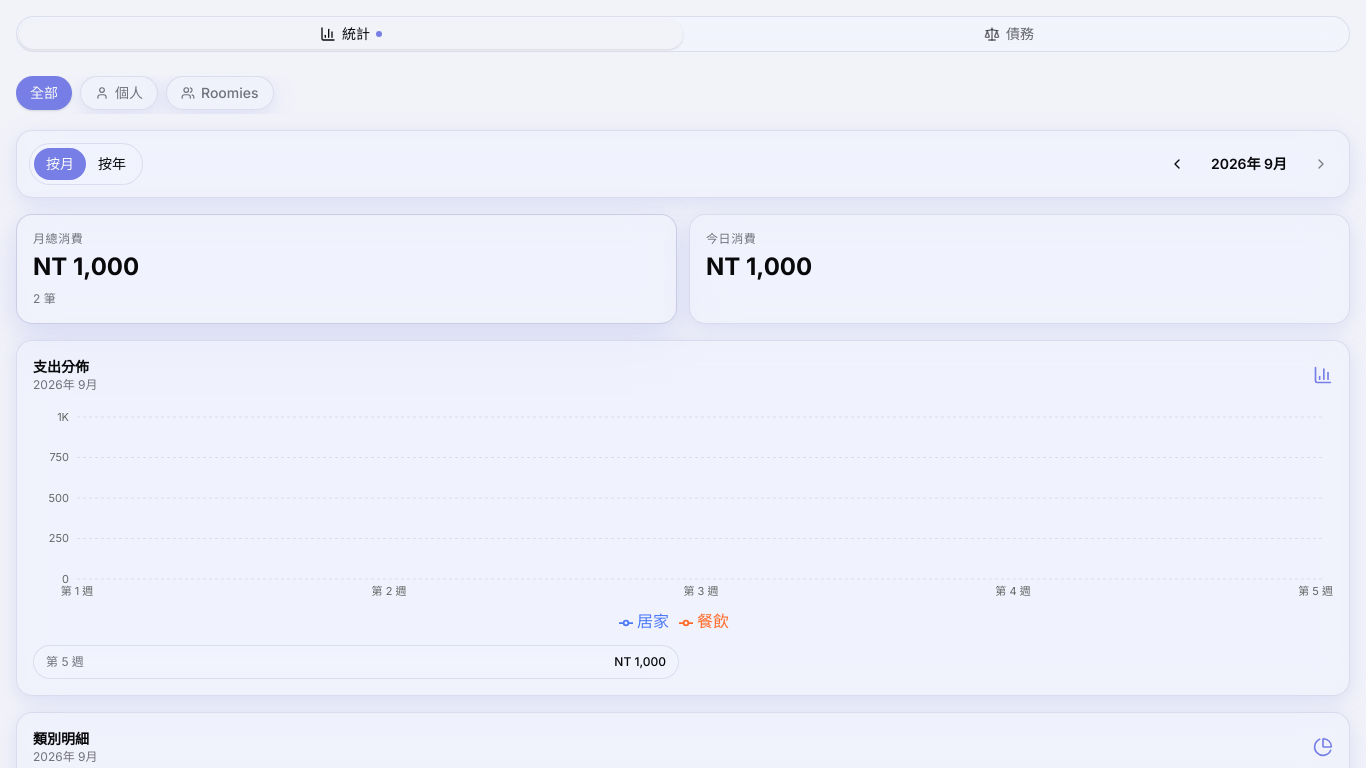
Test: OverviewPage › empty debt year hides the hero and current-month label, showing the no-data state
Press the mouse on the tab "債務" at (1015, 34), box x1=683 y1=20 x2=1347 y2=48
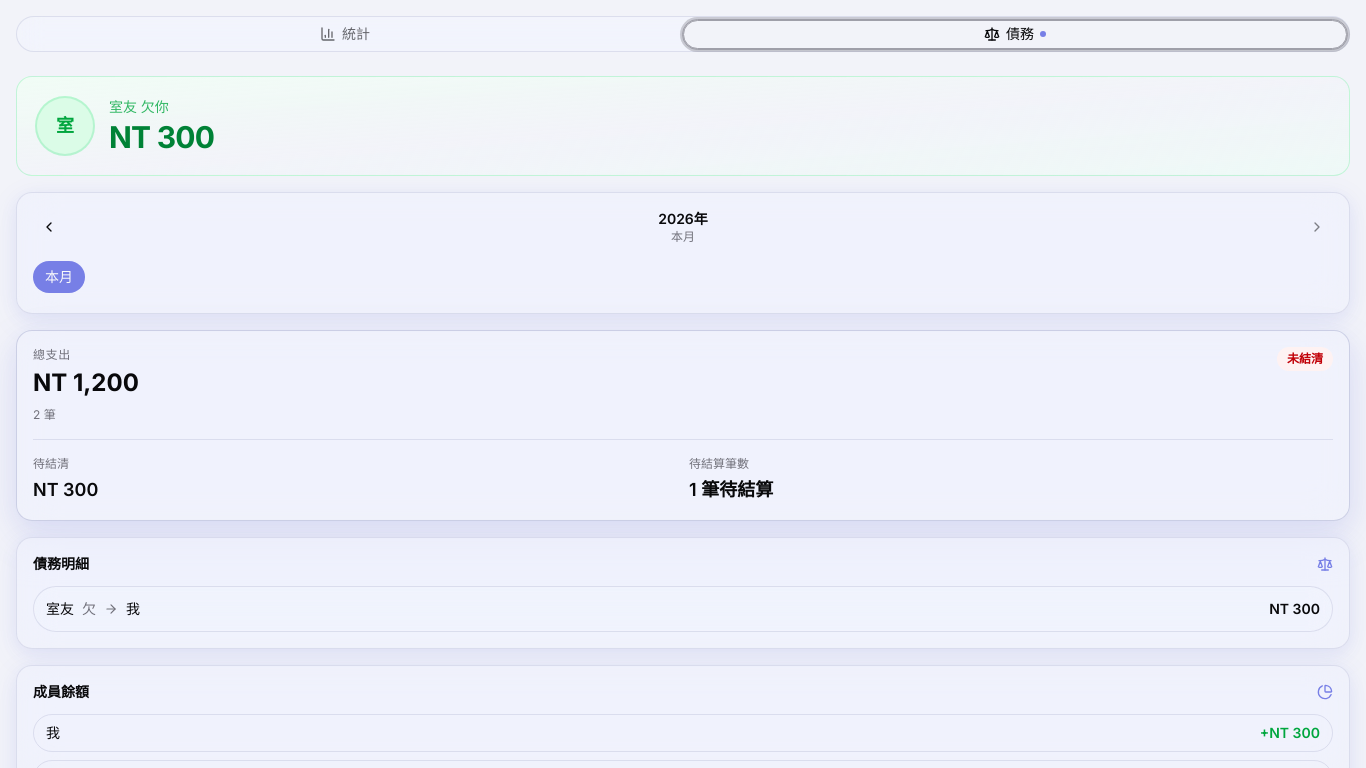
Expected: the element with test id "overview-debt-hero" is shown, x1=16 y1=76 x2=1350 y2=176
Expected: the text "本月" is shown, x1=671 y1=229 x2=695 y2=244
// 切到沒有月份的上一年：hero 不渲染、不顯示 current-month label、顯示無資料空狀態。
Click the button named "previous debt year" at (49, 227), box x1=33 y1=211 x2=65 y2=243
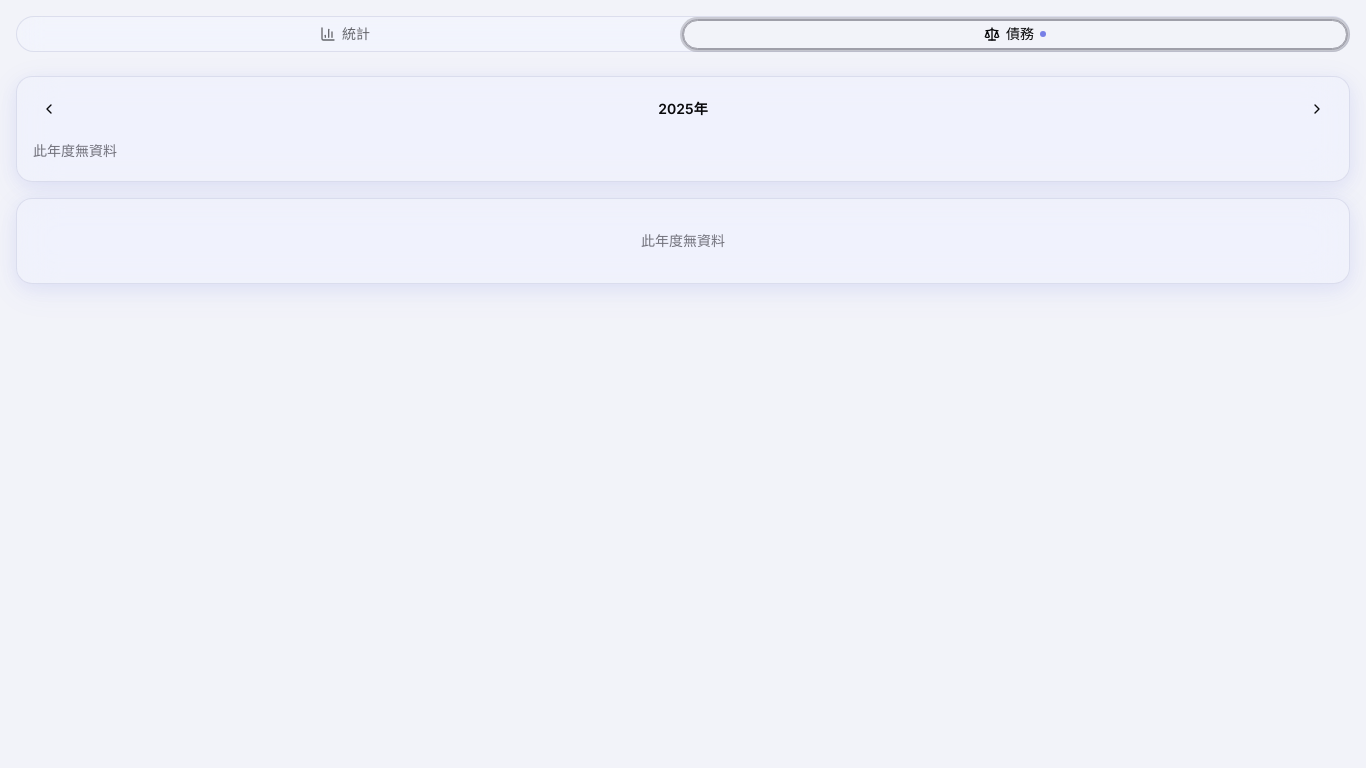
Expected: the element with test id "overview-debt-hero" is gone
Expected: the text "本月" is gone
Expected: the 1st text "此年度無資料" is shown, x1=33 y1=141 x2=117 y2=161
